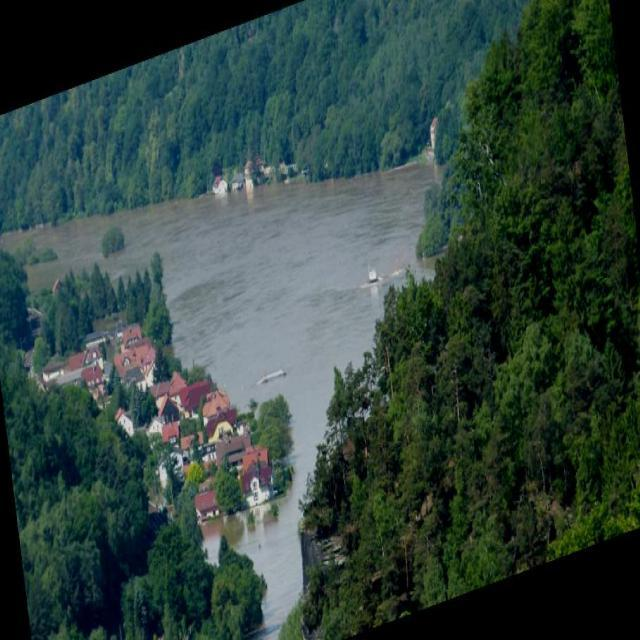flood: (147, 114, 446, 500)
